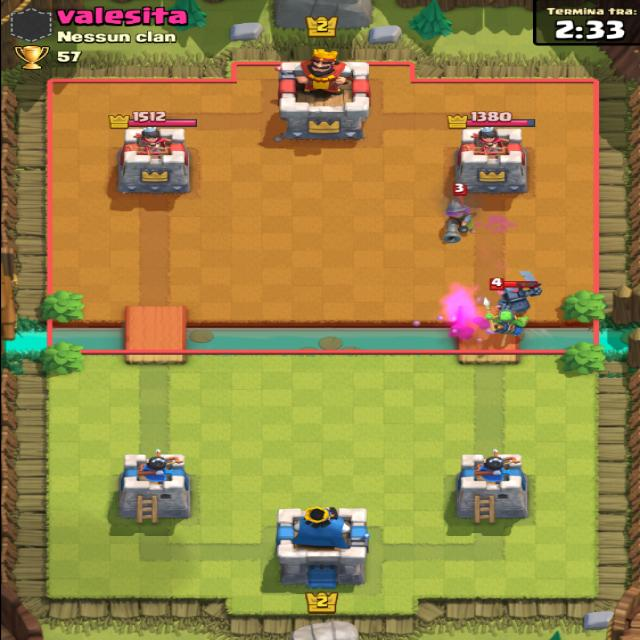Enemy-MiniPEKKA: (488, 276, 539, 314)
Enemy-Musketeer: (439, 179, 479, 247)
Player-SpearGoblin: (491, 314, 530, 343)
